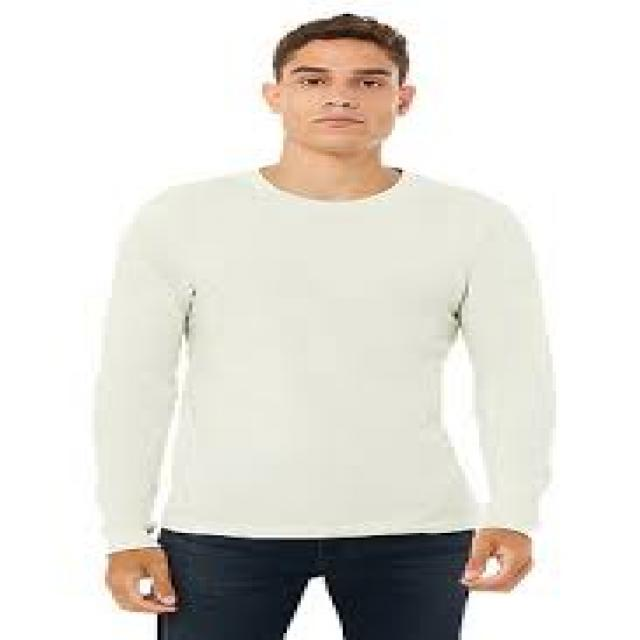plain: (103, 166, 557, 534)
